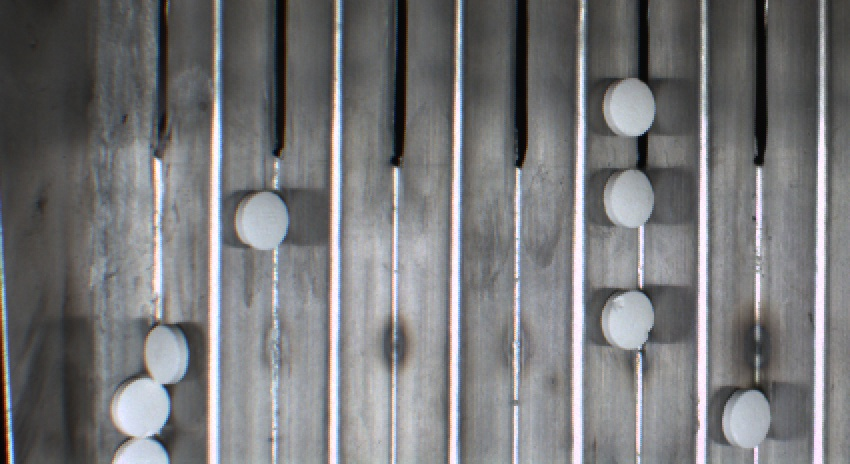white_b: (591, 294, 661, 369)
white_g: (225, 192, 298, 268), (131, 325, 199, 398), (104, 381, 174, 450), (594, 174, 662, 244), (597, 81, 661, 153)
